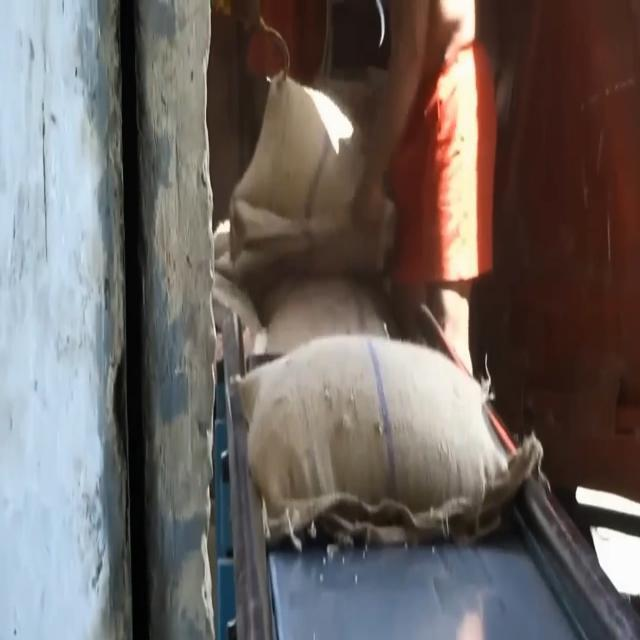gunny_bag: (235, 327, 542, 545), (228, 70, 367, 250)
